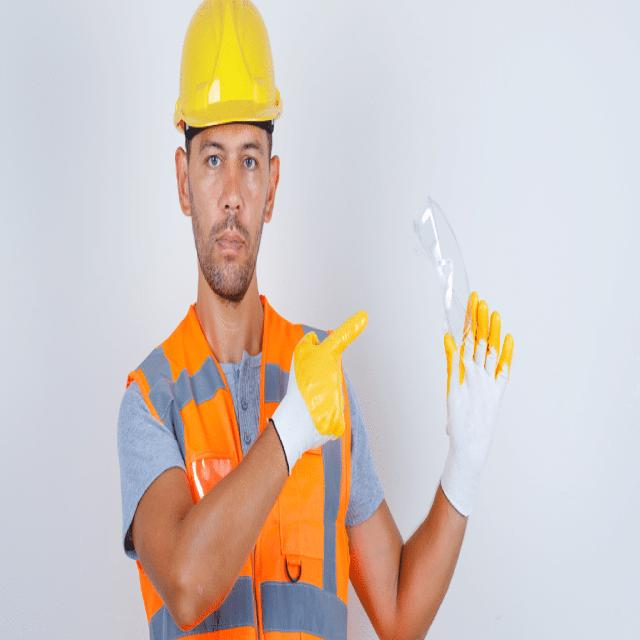Boots: (437, 299, 523, 539), (281, 290, 361, 484)
